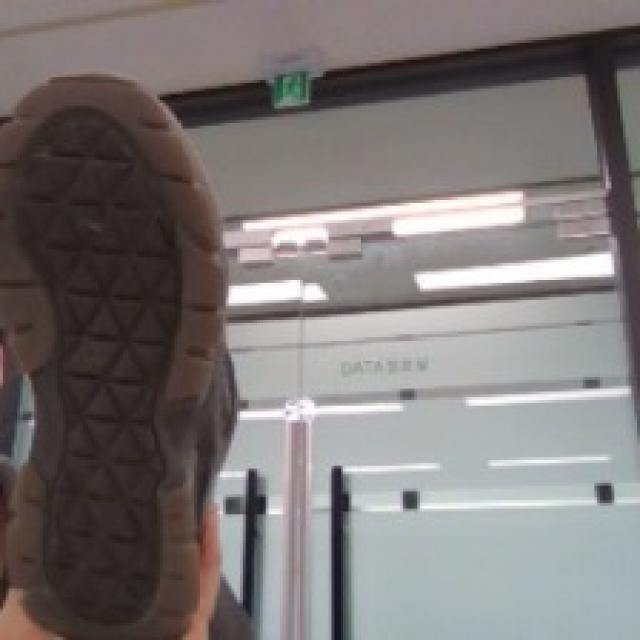shoe: (0, 65, 234, 637)
